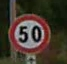limite 50: (8, 13, 51, 54)
